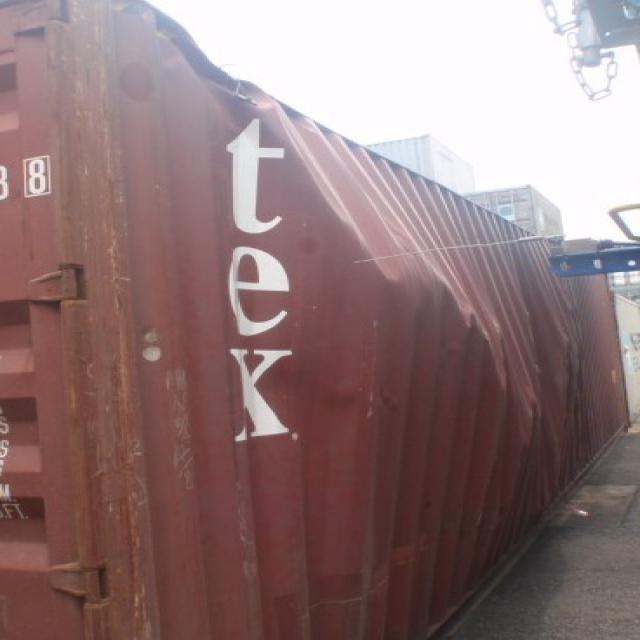dent: (95, 37, 625, 526)
